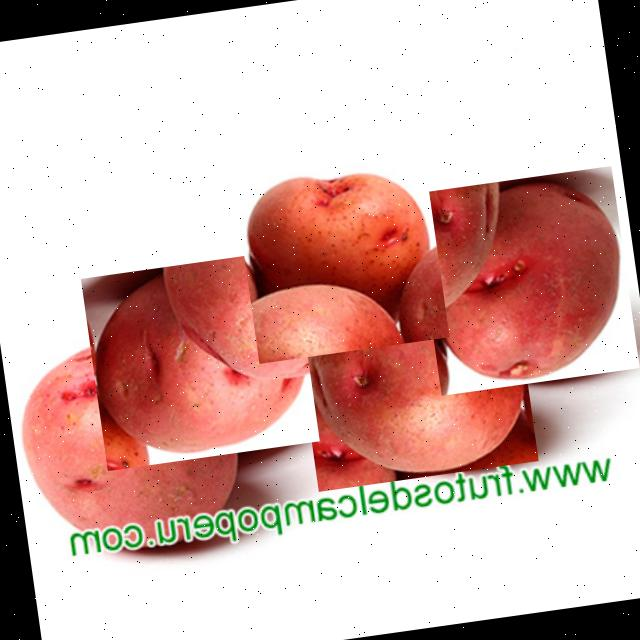Defected potato: (290, 253, 538, 492), (7, 323, 250, 565), (81, 249, 320, 471), (413, 166, 640, 396), (234, 155, 450, 364)
